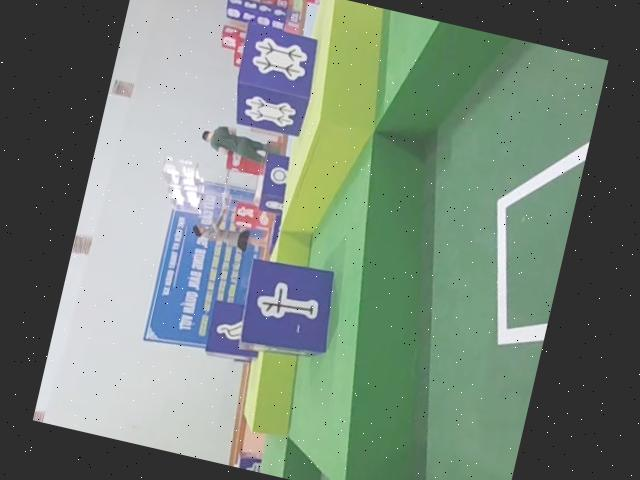R2 Real Blue: (233, 253, 347, 368), (226, 21, 326, 137), (203, 294, 269, 362), (255, 149, 294, 211)
